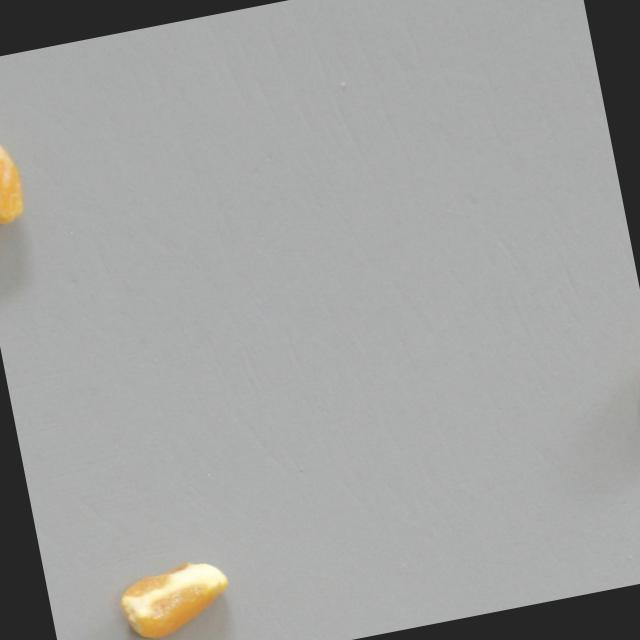estandar: (115, 556, 238, 640)
pelicula: (0, 119, 30, 227)
